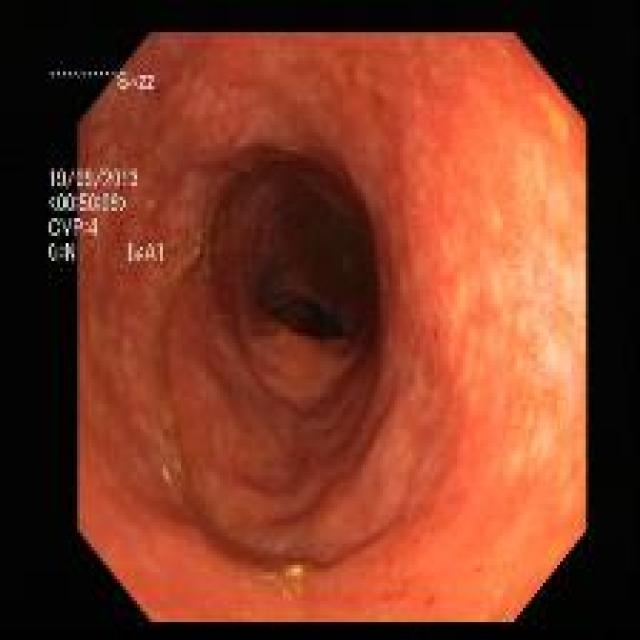ulcerative-colitis: (49, 33, 586, 623)
